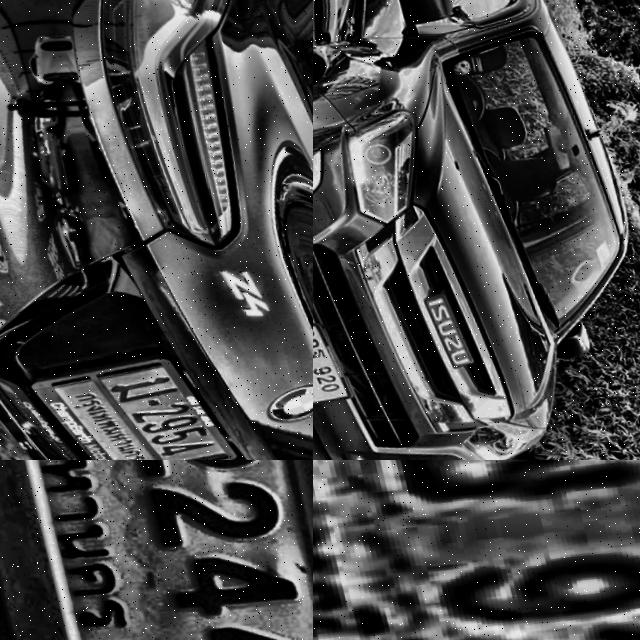license-plate: (313, 460, 640, 640), (0, 460, 313, 640), (0, 315, 249, 460), (313, 308, 348, 409)
